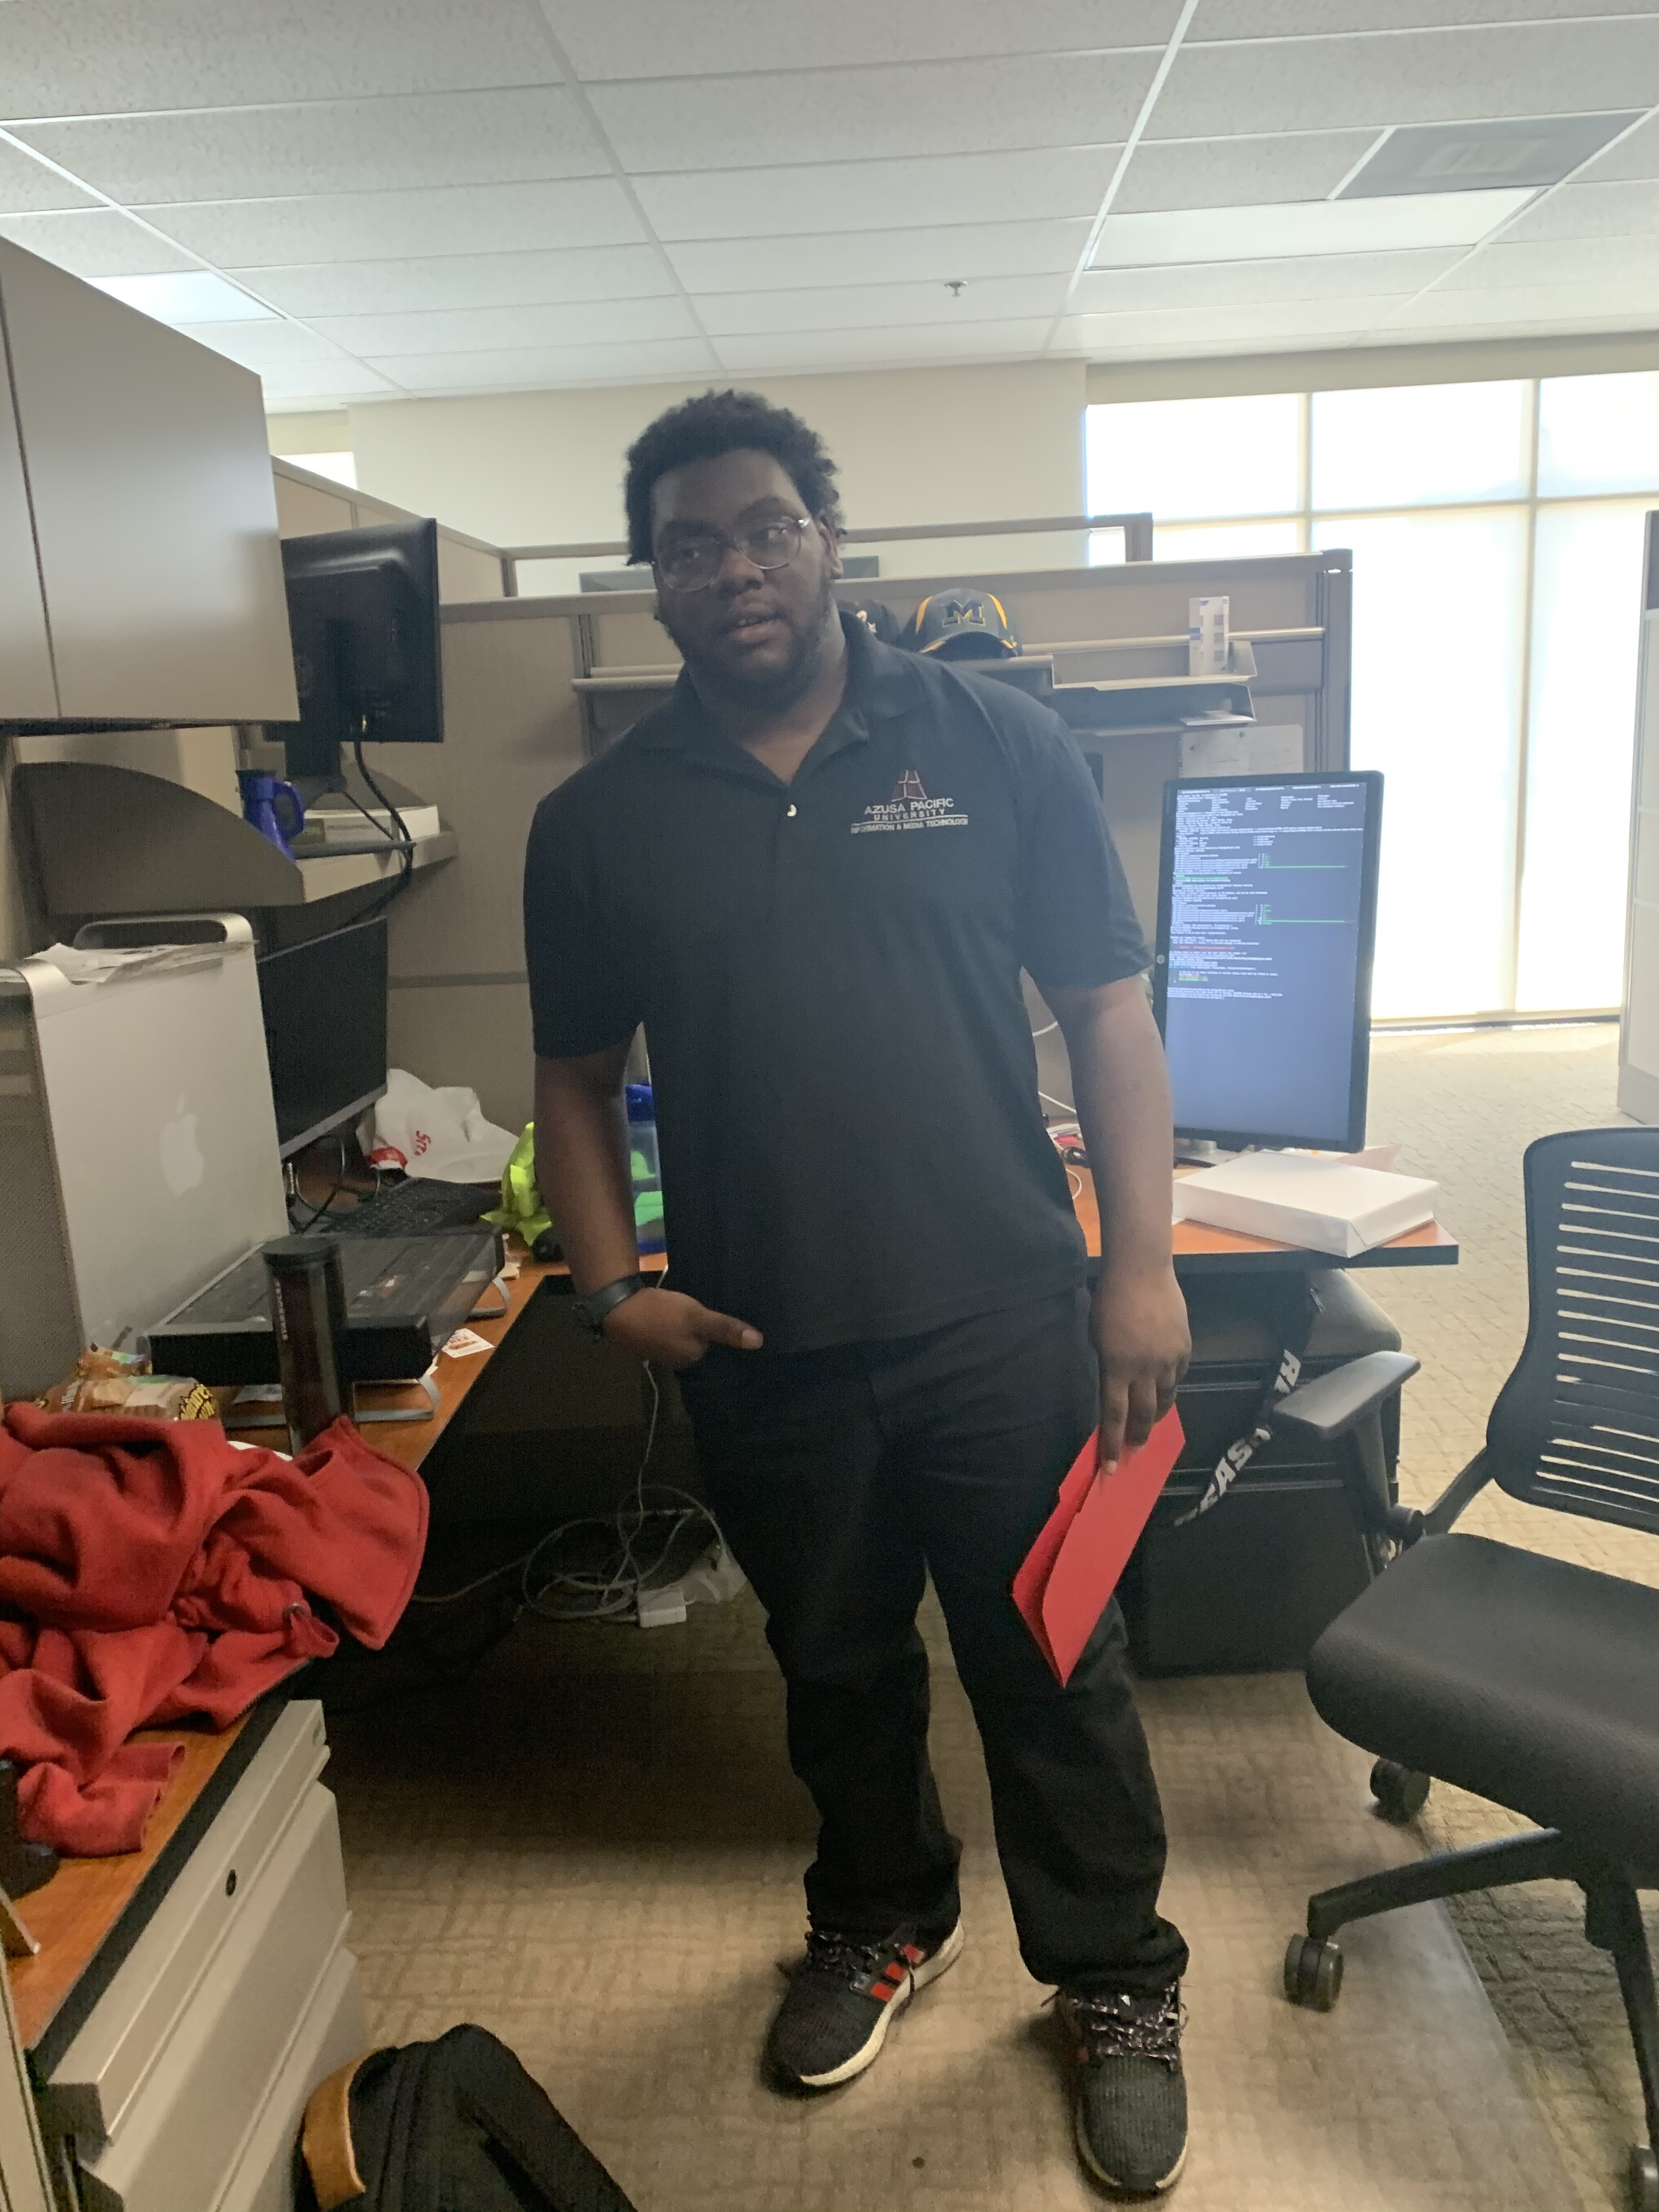red folder: (992, 1369, 1197, 1698)
